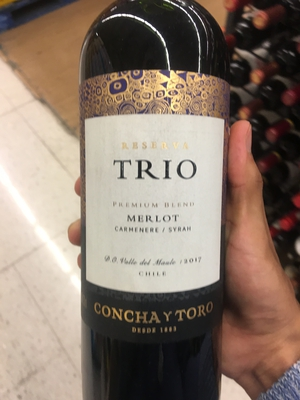trio merlot: (80, 11, 232, 400)
